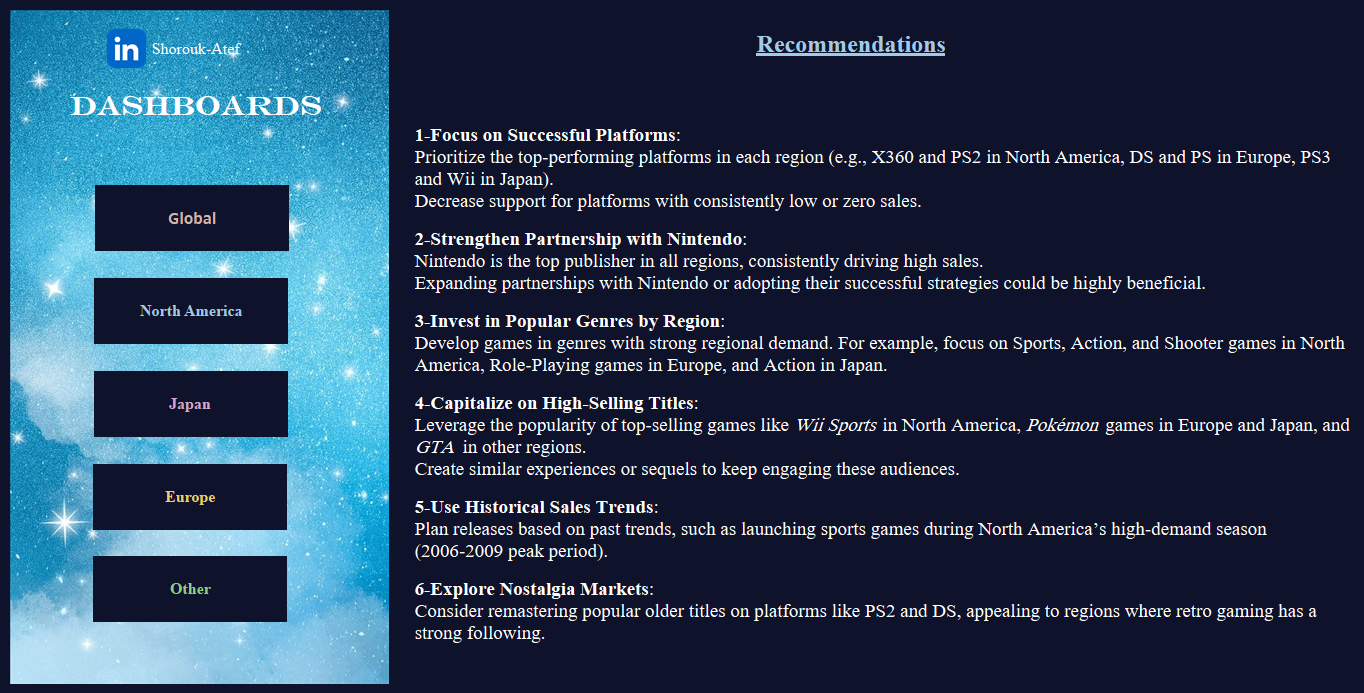

The page's visual inventory and layout, read from the dashboard file:
{"tool":"tableau","page":{"name":"Recommendations","canvas":[1000,1000],"units":"permille","ordinal":8},"visuals":[{"type":"image","box":[5.9,11.5,871.1,977.1]},{"type":"text","box":[553.2,14.6,199.1,103.6]},{"type":"image","box":[74.5,34.6,38.1,76.4]},{"type":"text","box":[110.8,41.8,93.5,61.8]},{"type":"text","box":[0,65.5,289.2,176.4]},{"type":"dashboard-object","box":[71,267.3,142,94.5]},{"type":"dashboard-object","box":[70.1,401.8,142,94.5]},{"type":"dashboard-object","box":[70.1,534.5,142,94.5]},{"type":"dashboard-object","box":[69.3,667.3,142,94.5]},{"type":"dashboard-object","box":[69.3,800,142,94.5]}]}

Visuals, with their boxes on the dashboard's canvas, which has no fixed pixel size, in thousandths of its width and height (x1, y1, x2, y2). These are canvas units, not pixel positions in the 1364x693 screenshot, which may show the page scaled, cropped or inside an application window:
image: bbox=[6, 12, 877, 989]
text: bbox=[553, 15, 752, 118]
image: bbox=[74, 35, 113, 111]
text: bbox=[111, 42, 204, 104]
text: bbox=[0, 66, 289, 242]
dashboard-object: bbox=[71, 267, 213, 362]
dashboard-object: bbox=[70, 402, 212, 496]
dashboard-object: bbox=[70, 534, 212, 629]
dashboard-object: bbox=[69, 667, 211, 762]
dashboard-object: bbox=[69, 800, 211, 894]
